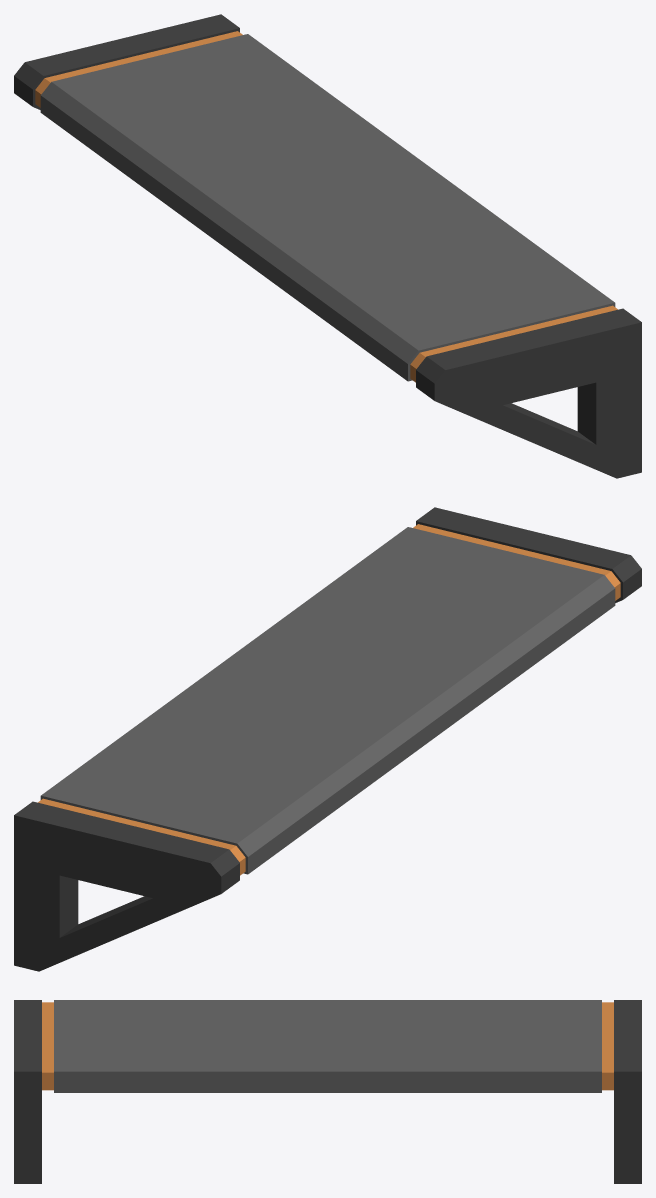
The model's file is Shelf_01.FBX.
3 renders of one model, top to bottom at view 1: azimuth 30°, elevation 25°; view 2: azimuth 150°, elevation 25°; view 3: azimuth 270°, elevation 25°, orthographic. The views are drawn at different scales.
Parts seen in each view (by area): view 1: Shelf_01_LOD0; view 2: Shelf_01_LOD0; view 3: Shelf_01_LOD0.
Part boxes in pixels (x1,y1,x2,y2): Shelf_01_LOD0: [14, 14, 641, 478]; Shelf_01_LOD0: [14, 507, 641, 971]; Shelf_01_LOD0: [14, 1000, 641, 1183].
Size of what is drawn, in the model's own units: 10.24 by 7.1 by 36.
